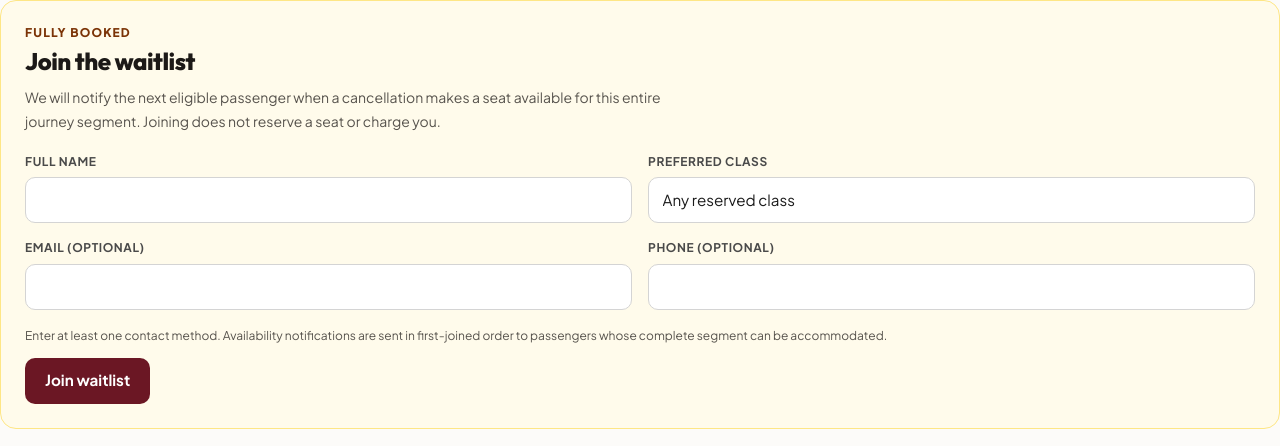
Test: joins the waitlist for a sold-out journey segment
The image size is (1280, 446).
Type "Anura Perera" into the field labelled "Full name" at [328, 200], box [25,177,632,223]
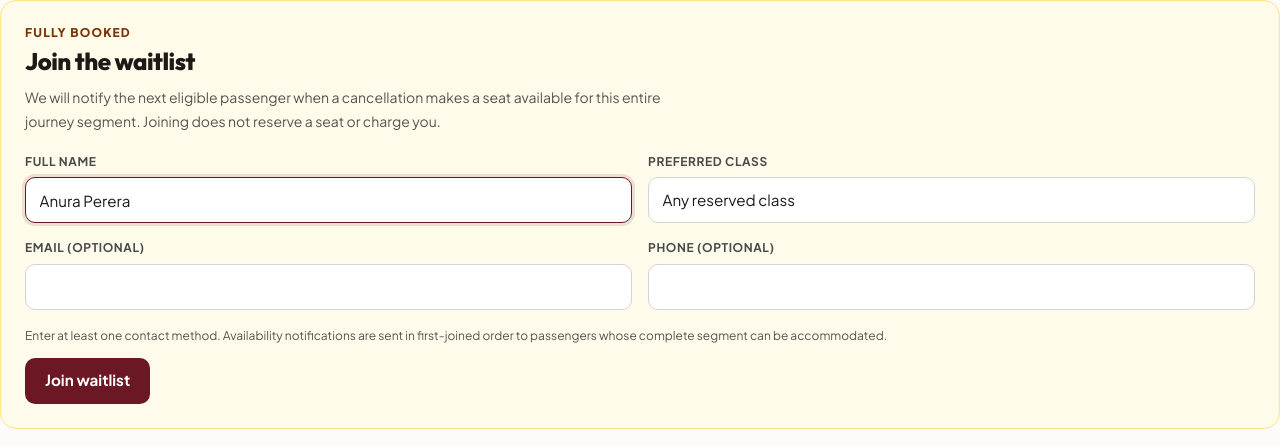
Type "anura@example.com" into the field labelled "Email (optional)" at [328, 287], box [25,264,632,310]
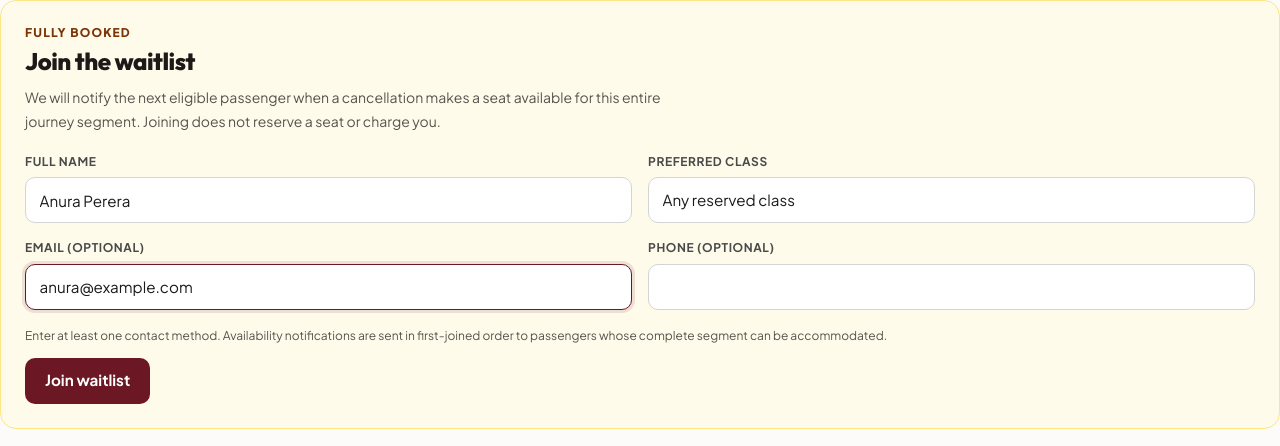
Click the button "Join waitlist" at [88, 381], box [25,358,150,404]
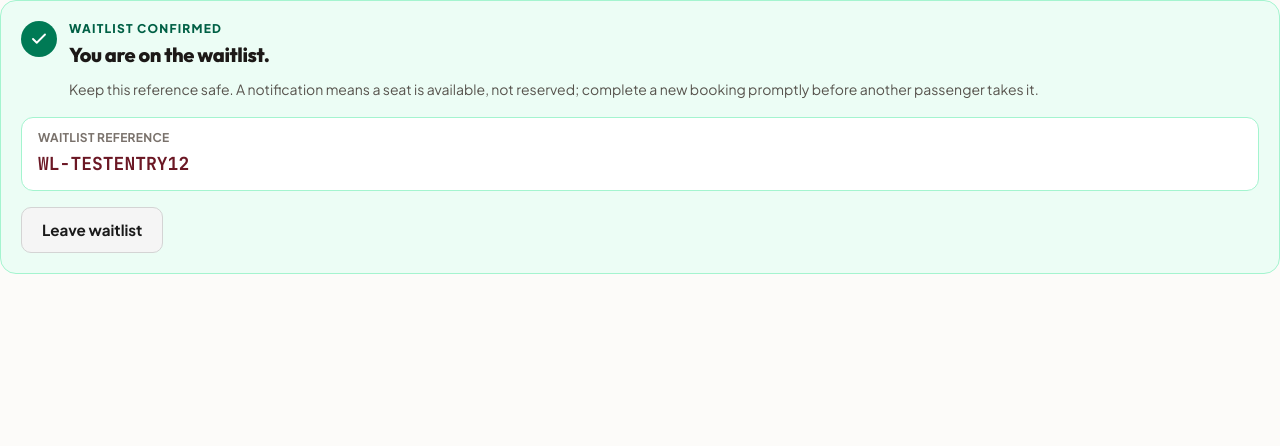
Result: the text "WL-TESTENTRY12" is shown at [38,152,189,175]
